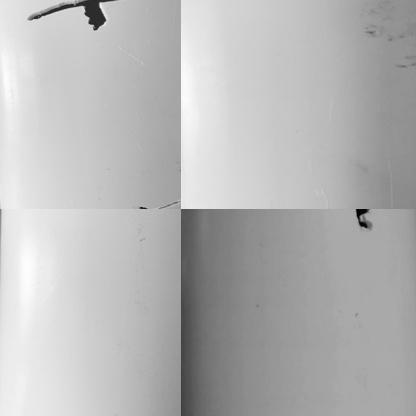kongdong: (24, 1, 127, 32), (353, 207, 381, 232)
